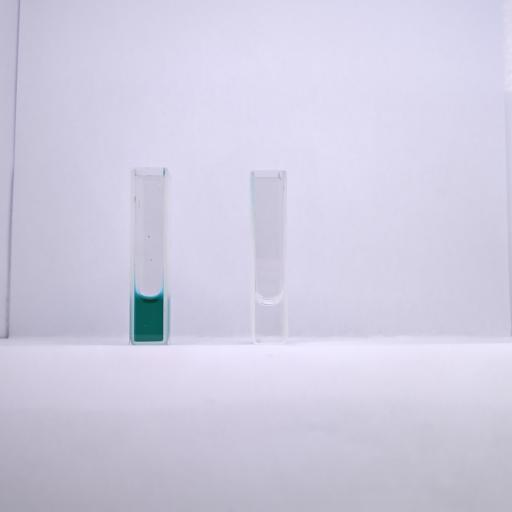cuvette: (128, 165, 174, 350), (249, 168, 290, 348)
liquid: (134, 294, 164, 341), (256, 296, 284, 341)
